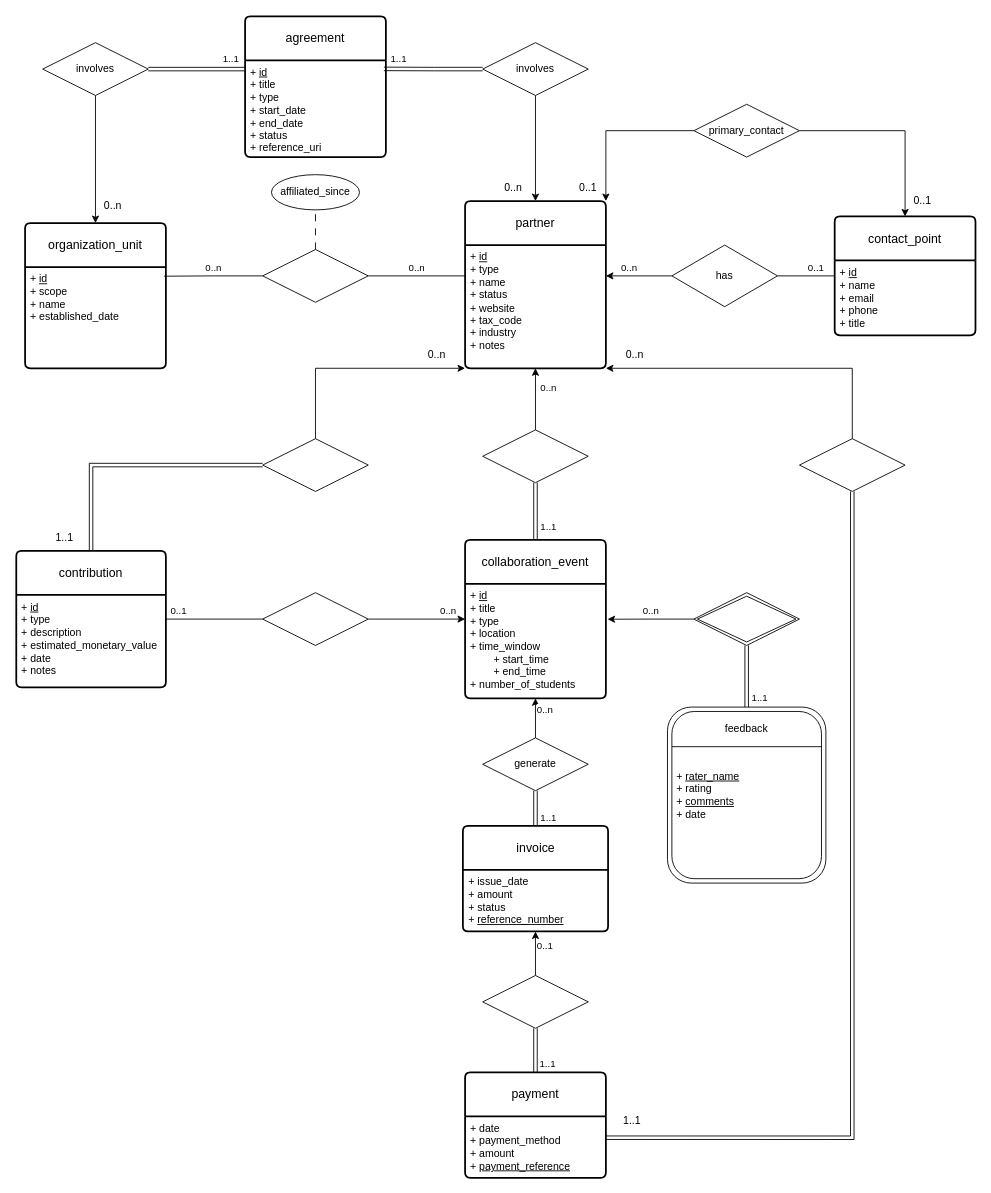
Some shapes in this 991 by 1193 pixel diagram are drawn without their labels. The shapes that lost their labels are listed below. From the top down, each one's centre as x and y in pixels, then its label:
At (x=315, y=275): "affiliate".
At (x=315, y=464): "sponsor".
At (x=535, y=456): "participate".
At (x=852, y=464): "pay".
At (x=315, y=618): "link".
At (x=746, y=618): "event_feedback".
At (x=535, y=1001): "invoice_payment".
